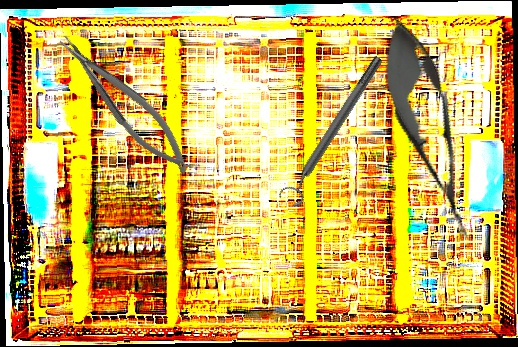Fixation Ring: (275, 51, 392, 210)
Micro Scissor: (364, 7, 494, 252)
Needle Holder: (52, 22, 200, 185)
